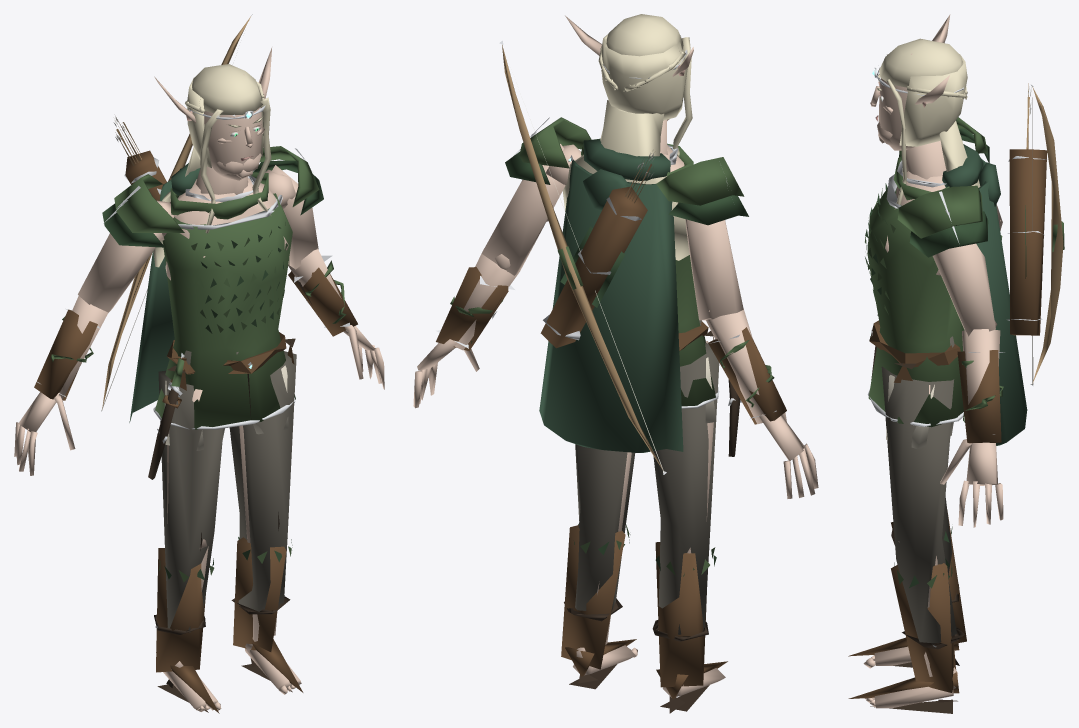
Rendered from elf_heavy.glb.
3 views of the same model, side by side, from view 1: azimuth 30°, elevation 25°; view 2: azimuth 150°, elevation 25°; view 3: azimuth 270°, elevation 25° (orthographic). The views are drawn at different scales.
Parts seen in each view (by area): view 1: elf_heavy__OW_Armor_ElvenRanger_01_Chest_d, elf_heavy__OW_Armor_ElvenRanger_01_Legs_d, elf_heavy__OW_Char_Elf_01_Body_Head_d, elf_heavy__OW_Armor_ElvenRanger_01_Feet_d, elf_heavy__OW_Armor_ElvenRanger_01_Back_d, elf_heavy__OW_Char_Elf_01_Body_Arms_d, elf_heavy__OW_Armor_ElvenRanger_01_Shoulders_d, elf_heavy__OW_Armor_ElvenRanger_01_Arms_d, elf_heavy__OW_Char_Elf_01_Body_Hands_d, elf_heavy__OW_Char_Elf_01_Body_Torso_d, elf_heavy__OW_Char_Elf_01_Body_Feet_d, elf_heavy__OW_Char_Elf_01_Body_Legs_d (+1 smaller); view 2: elf_heavy__OW_Armor_ElvenRanger_01_Back_d, elf_heavy__OW_Armor_ElvenRanger_01_Legs_d, elf_heavy__OW_Char_Elf_01_Body_Head_d, elf_heavy__OW_Char_Elf_01_Body_Arms_d, elf_heavy__OW_Armor_ElvenRanger_01_Feet_d, elf_heavy__OW_Armor_ElvenRanger_01_Shoulders_d, elf_heavy__OW_Armor_ElvenRanger_01_Arms_d, elf_heavy__OW_Armor_ElvenRanger_01_Chest_d, elf_heavy__OW_Char_Elf_01_Body_Hands_d, elf_heavy__OW_Char_Elf_01_Body_Feet_d, elf_heavy__OW_Char_Elf_01_Body_Legs_d, elf_heavy__OW_Armor_ElvenRanger_01_Weapon_Hip_d; view 3: elf_heavy__OW_Armor_ElvenRanger_01_Back_d, elf_heavy__OW_Armor_ElvenRanger_01_Chest_d, elf_heavy__OW_Armor_ElvenRanger_01_Legs_d, elf_heavy__OW_Char_Elf_01_Body_Head_d, elf_heavy__OW_Armor_ElvenRanger_01_Feet_d, elf_heavy__OW_Armor_ElvenRanger_01_Shoulders_d, elf_heavy__OW_Char_Elf_01_Body_Arms_d, elf_heavy__OW_Armor_ElvenRanger_01_Arms_d, elf_heavy__OW_Char_Elf_01_Body_Hands_d, elf_heavy__OW_Char_Elf_01_Body_Feet_d, elf_heavy__OW_Char_Elf_01_Body_Legs_d, elf_heavy__OW_Char_Elf_01_Body_Torso_d.
Boxes of the visible parts, x1,y1,x2,y2 form: elf_heavy__OW_Armor_ElvenRanger_01_Chest_d: (153, 172, 295, 429); elf_heavy__OW_Armor_ElvenRanger_01_Legs_d: (158, 350, 296, 632); elf_heavy__OW_Char_Elf_01_Body_Head_d: (153, 48, 271, 267); elf_heavy__OW_Armor_ElvenRanger_01_Feet_d: (154, 537, 303, 713); elf_heavy__OW_Armor_ElvenRanger_01_Back_d: (101, 14, 253, 422); elf_heavy__OW_Char_Elf_01_Body_Arms_d: (59, 165, 341, 399); elf_heavy__OW_Armor_ElvenRanger_01_Shoulders_d: (102, 146, 323, 247); elf_heavy__OW_Armor_ElvenRanger_01_Arms_d: (34, 255, 357, 400); elf_heavy__OW_Char_Elf_01_Body_Hands_d: (14, 325, 384, 475); elf_heavy__OW_Char_Elf_01_Body_Torso_d: (165, 177, 288, 280); elf_heavy__OW_Char_Elf_01_Body_Feet_d: (163, 643, 301, 711); elf_heavy__OW_Char_Elf_01_Body_Legs_d: (164, 365, 288, 641); elf_heavy__OW_Armor_ElvenRanger_01_Back_d: (499, 40, 683, 474); elf_heavy__OW_Armor_ElvenRanger_01_Legs_d: (575, 320, 719, 634); elf_heavy__OW_Char_Elf_01_Body_Head_d: (563, 14, 693, 260); elf_heavy__OW_Char_Elf_01_Body_Arms_d: (454, 144, 765, 424); elf_heavy__OW_Armor_ElvenRanger_01_Feet_d: (561, 524, 727, 713); elf_heavy__OW_Armor_ElvenRanger_01_Shoulders_d: (505, 117, 748, 225); elf_heavy__OW_Armor_ElvenRanger_01_Arms_d: (436, 267, 786, 424); elf_heavy__OW_Armor_ElvenRanger_01_Chest_d: (581, 138, 719, 408); elf_heavy__OW_Char_Elf_01_Body_Hands_d: (413, 339, 818, 498); elf_heavy__OW_Char_Elf_01_Body_Feet_d: (573, 645, 725, 697); elf_heavy__OW_Char_Elf_01_Body_Legs_d: (597, 341, 716, 644); elf_heavy__OW_Armor_ElvenRanger_01_Weapon_Hip_d: (728, 379, 741, 456); elf_heavy__OW_Armor_ElvenRanger_01_Back_d: (942, 83, 1064, 445); elf_heavy__OW_Armor_ElvenRanger_01_Chest_d: (865, 156, 964, 427); elf_heavy__OW_Armor_ElvenRanger_01_Legs_d: (881, 336, 956, 643); elf_heavy__OW_Char_Elf_01_Body_Head_d: (870, 14, 980, 209); elf_heavy__OW_Armor_ElvenRanger_01_Feet_d: (848, 510, 966, 713); elf_heavy__OW_Armor_ElvenRanger_01_Shoulders_d: (897, 117, 989, 257); elf_heavy__OW_Char_Elf_01_Body_Arms_d: (933, 204, 1002, 404); elf_heavy__OW_Armor_ElvenRanger_01_Arms_d: (957, 235, 1004, 443); elf_heavy__OW_Char_Elf_01_Body_Hands_d: (940, 439, 1003, 527); elf_heavy__OW_Char_Elf_01_Body_Feet_d: (863, 646, 957, 708); elf_heavy__OW_Char_Elf_01_Body_Legs_d: (886, 375, 953, 676); elf_heavy__OW_Char_Elf_01_Body_Torso_d: (885, 171, 945, 275).
Size of the model in its own units: 1.19 by 1.93 by 0.588.
